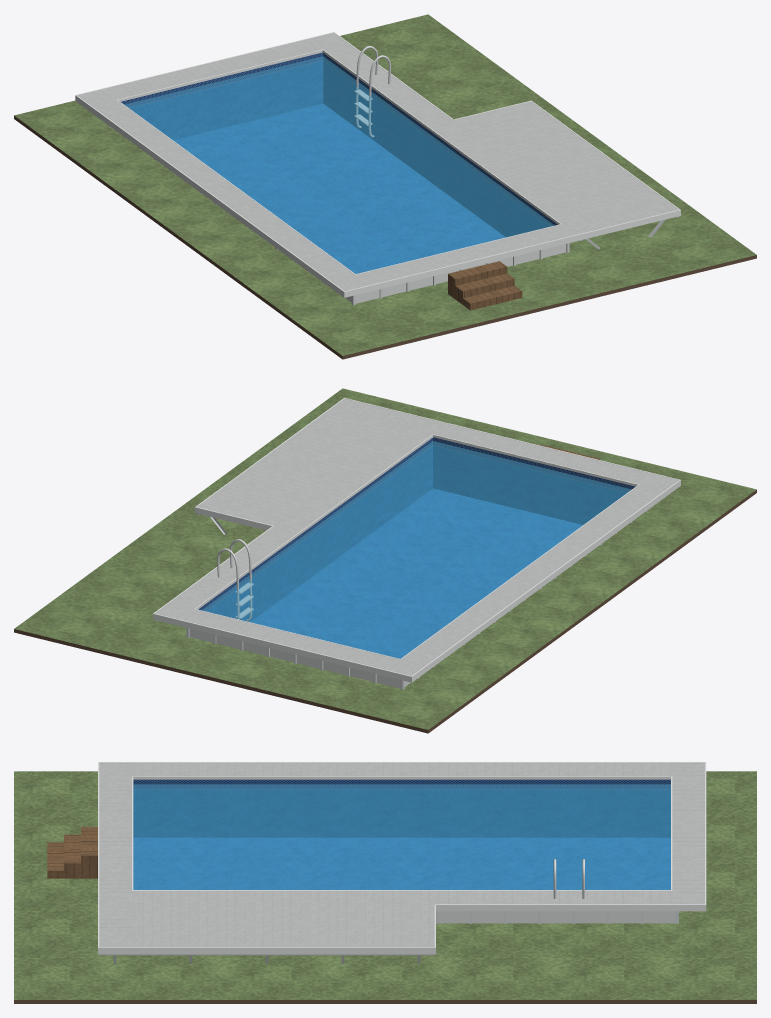
Rendered from kayak-pool-16x32-white-l-rec-nofence.1928cdc18b.glb.
3 renders of one model, top to bottom at view 1: azimuth 30°, elevation 25°; view 2: azimuth 150°, elevation 25°; view 3: azimuth 270°, elevation 25°, orthographic. The views are drawn at different scales.
Visible parts, largest first — view 1: ground, water, deck, liner_floor, liner_wall, fascia, soil, steps, wall, steel; view 2: ground, water, deck, liner_floor, liner_wall, fascia, soil, wall, steel; view 3: ground, water, deck, liner_wall, liner_floor, fascia, soil, wall, steps, stud.
Part boxes in pixels (bbox=[...]): ground: bbox=[14, 14, 756, 355]; water: bbox=[125, 56, 553, 273]; deck: bbox=[77, 33, 678, 291]; liner_floor: bbox=[173, 104, 505, 273]; liner_wall: bbox=[121, 52, 557, 237]; fascia: bbox=[75, 32, 680, 297]; soil: bbox=[14, 115, 756, 359]; steps: bbox=[448, 261, 522, 310]; wall: bbox=[345, 244, 566, 303]; steel: bbox=[354, 46, 390, 137]; ground: bbox=[14, 388, 756, 729]; water: bbox=[202, 441, 631, 658]; deck: bbox=[155, 399, 678, 675]; liner_floor: bbox=[251, 488, 582, 658]; liner_wall: bbox=[198, 437, 635, 621]; fascia: bbox=[153, 398, 680, 682]; soil: bbox=[14, 489, 756, 733]; wall: bbox=[189, 628, 410, 688]; steel: bbox=[217, 539, 253, 621]; ground: bbox=[14, 771, 756, 999]; water: bbox=[133, 784, 670, 889]; deck: bbox=[99, 763, 704, 946]; liner_wall: bbox=[133, 779, 670, 837]; liner_floor: bbox=[133, 837, 670, 889]; fascia: bbox=[98, 762, 706, 954]; soil: bbox=[14, 1000, 756, 1003]; wall: bbox=[438, 911, 675, 923]; steps: bbox=[47, 827, 97, 878]; stud: bbox=[99, 954, 434, 963].
Bounding box in the file's own units: 9.75 × 1.9 × 13.4.
12 materials, 5 textured.
